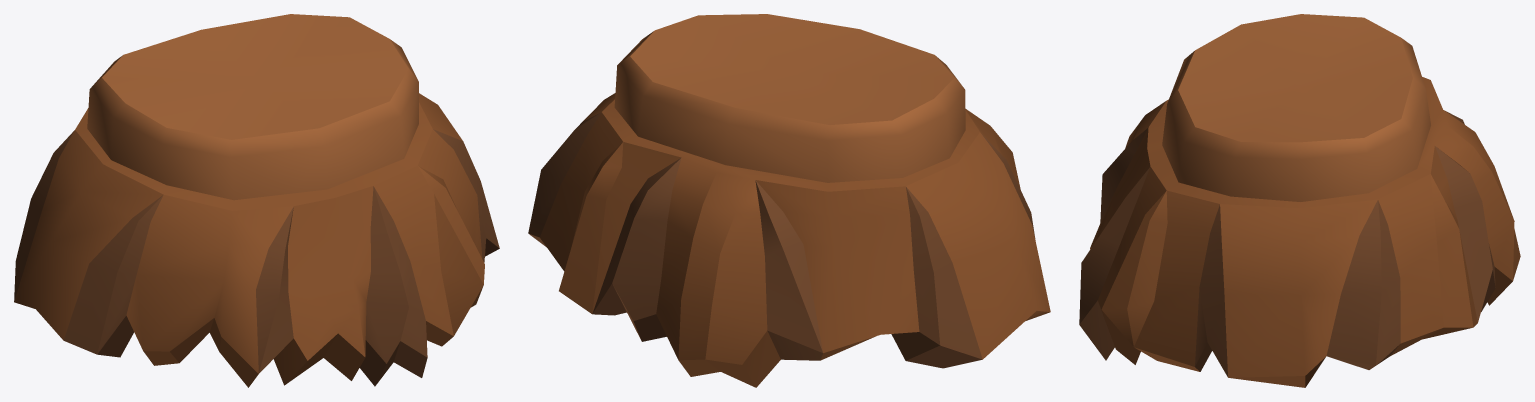
Rendered from Legs_59.fbx.
The picture shows the model from 3 angles, left to right: view 1: azimuth 30°, elevation 25°; view 2: azimuth 150°, elevation 25°; view 3: azimuth 270°, elevation 25°; orthographic projection. The views are drawn at different scales.
Visible parts, largest first — view 1: Legs_59; view 2: Legs_59; view 3: Legs_59.
Boxes of the visible parts, x1=… form: Legs_59: x1=14, y1=14, x2=499, y2=387; Legs_59: x1=528, y1=14, x2=1050, y2=387; Legs_59: x1=1079, y1=14, x2=1520, y2=387.
Bounding box in the file's own units: 58.1 × 31.35 × 49.99.
